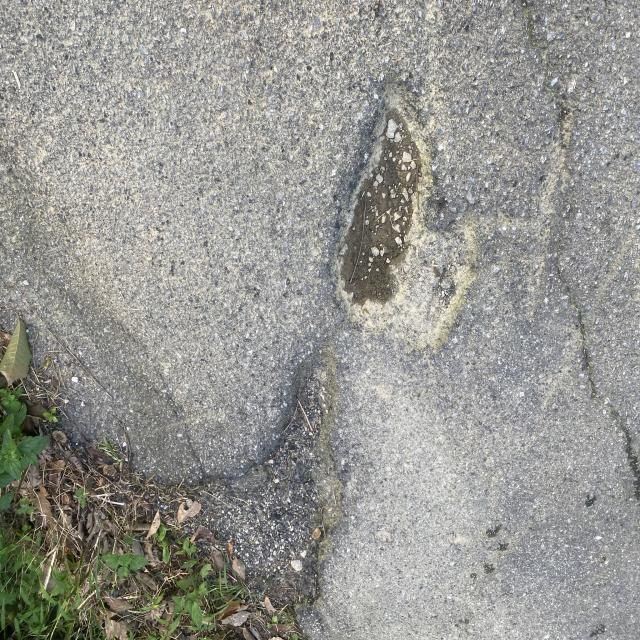pothole: (312, 84, 462, 352)
